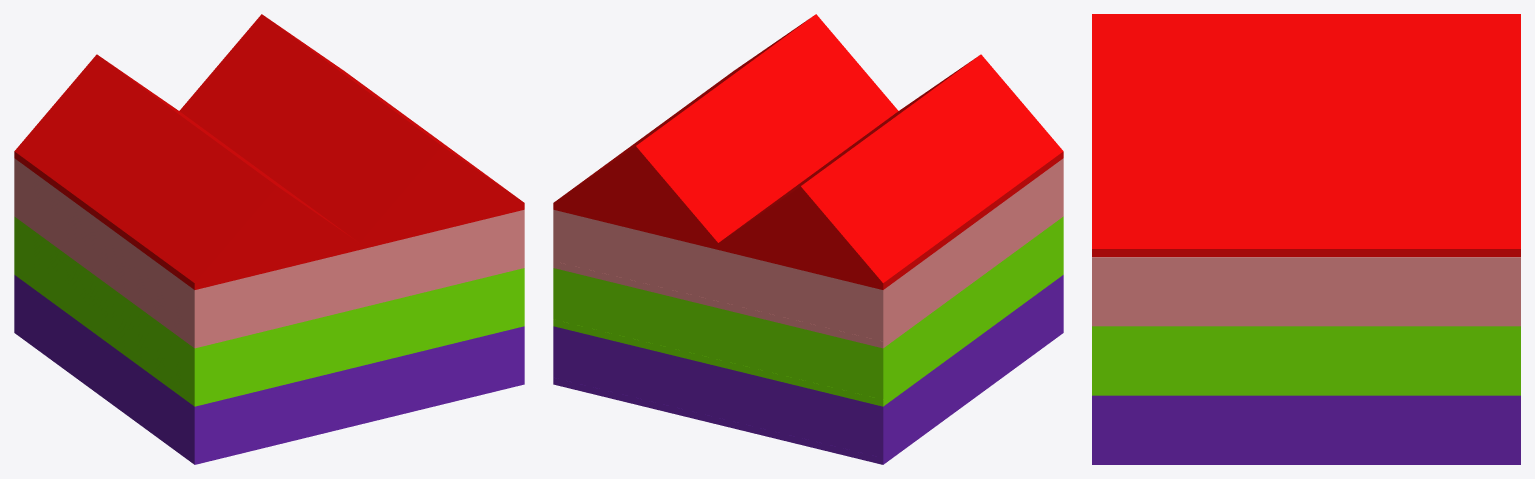
File: Heffernan-meter9.dae
3 views of the same model, side by side, from view 1: azimuth 30°, elevation 25°; view 2: azimuth 150°, elevation 25°; view 3: azimuth 270°, elevation 25° (orthographic). The views are drawn at different scales.
Visible parts, largest first — view 1: Model, Group7, Group8, Group9, Group1, Group2, Group3, Group12, Group10, Group11, Group4, Group5 (+1 smaller); view 2: Model, Group9, Group8, Group7, Group1, Group2, Group3, Group10, Group12, Group11, Group5, Group4 (+1 smaller); view 3: Model, Group1, Group2, Group3, Group4, Group6, Group5.
Part boxes in pixels (x1,y1,x2,y2): Model: (14,14,524,289); Group7: (14,275,359,457); Group8: (14,216,359,399); Group9: (14,158,359,341); Group1: (359,326,524,417); Group2: (359,268,524,359); Group3: (359,209,524,301); Group12: (14,268,359,406); Group10: (14,210,359,348); Group11: (14,326,359,464); Group4: (359,261,524,307); Group5: (359,377,524,424); Model: (553,14,1063,289); Group9: (718,158,1063,341); Group8: (718,216,1063,399); Group7: (718,275,1063,457); Group1: (553,326,718,417); Group2: (553,268,718,359); Group3: (553,209,718,300); Group10: (718,210,1063,348); Group12: (718,268,1063,406); Group11: (718,326,1063,464); Group5: (553,377,718,424); Group4: (553,261,718,307); Model: (1092,14,1520,256); Group1: (1092,395,1520,456); Group2: (1092,326,1520,387); Group3: (1092,257,1520,318); Group4: (1092,318,1520,326); Group6: (1092,387,1520,395); Group5: (1092,457,1520,464).
Bounding box in the file's own units: 20.14 × 19.08 × 15.09.
